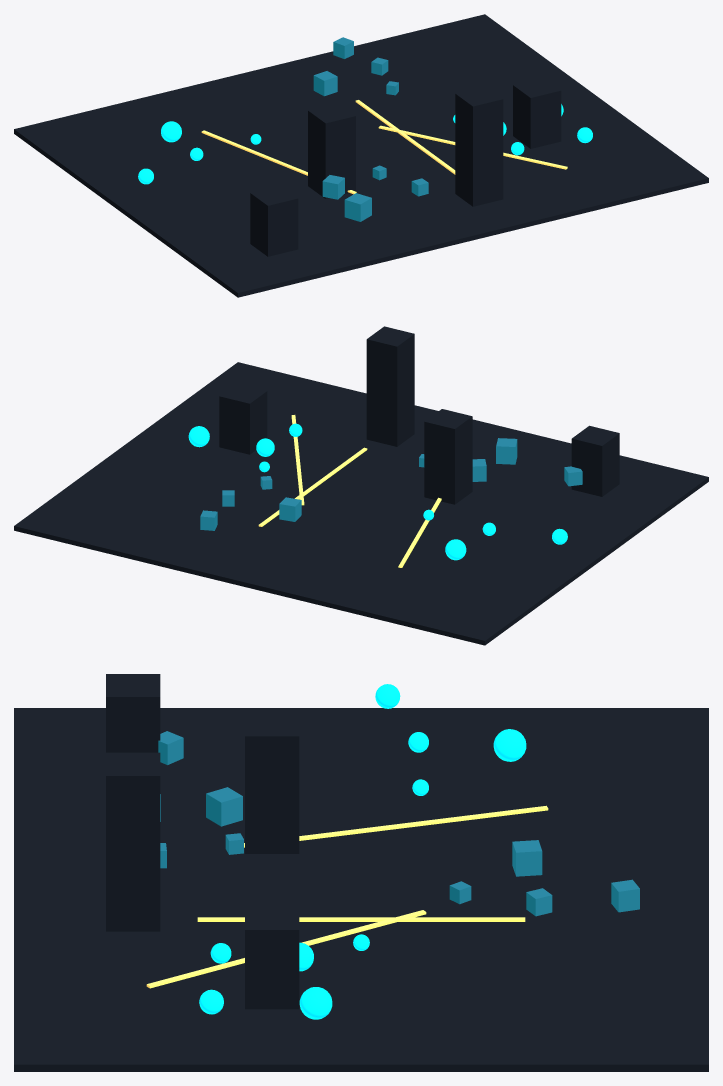
File: north-academy.glb
The picture shows the model from 3 angles, top to bottom: view 1: azimuth 30°, elevation 25°; view 2: azimuth 150°, elevation 25°; view 3: azimuth 270°, elevation 25°; orthographic projection. The views are drawn at different scales.
Parts seen in each view (by area): view 1: GD_north-academy_walkable_platform, GD_north-academy_distant_tower_2, GD_north-academy_distant_tower_1, GD_north-academy_distant_tower_0, GD_north-academy_distant_tower_3, GD_north-academy_cluster_9, GD_north-academy_pcg_route_12, GD_north-academy_pcg_route_0, GD_north-academy_cluster_3, GD_north-academy_pcg_route_6, GD_north-academy_cluster_13; view 2: GD_north-academy_walkable_platform, GD_north-academy_distant_tower_2, GD_north-academy_distant_tower_1, GD_north-academy_distant_tower_3, GD_north-academy_distant_tower_0, GD_north-academy_cluster_9; view 3: GD_north-academy_walkable_platform, GD_north-academy_distant_tower_2, GD_north-academy_distant_tower_1, GD_north-academy_distant_tower_3, GD_north-academy_distant_tower_0, GD_north-academy_pcg_route_6, GD_north-academy_pcg_route_0, GD_north-academy_pcg_route_12, GD_north-academy_cluster_13, GD_north-academy_cluster_3, GD_north-academy_cluster_4, GD_north-academy_cluster_14 (+3 smaller).
Part boxes in pixels (box(x1,y1,x2,y2)): GD_north-academy_walkable_platform: box(14, 14, 708, 297); GD_north-academy_distant_tower_2: box(455, 86, 503, 206); GD_north-academy_distant_tower_1: box(308, 103, 355, 198); GD_north-academy_distant_tower_0: box(250, 185, 298, 256); GD_north-academy_distant_tower_3: box(513, 78, 561, 148); GD_north-academy_cluster_9: box(344, 193, 371, 221); GD_north-academy_pcg_route_12: box(378, 125, 567, 169); GD_north-academy_pcg_route_0: box(355, 100, 455, 174); GD_north-academy_cluster_3: box(313, 71, 337, 96); GD_north-academy_pcg_route_6: box(201, 130, 356, 194); GD_north-academy_cluster_13: box(322, 175, 344, 199); GD_north-academy_walkable_platform: box(14, 362, 708, 645); GD_north-academy_distant_tower_2: box(366, 326, 414, 446); GD_north-academy_distant_tower_1: box(424, 409, 472, 504); GD_north-academy_distant_tower_3: box(219, 383, 267, 454); GD_north-academy_distant_tower_0: box(571, 425, 619, 496); GD_north-academy_cluster_9: box(496, 438, 517, 464); GD_north-academy_walkable_platform: box(14, 708, 708, 1071); GD_north-academy_distant_tower_2: box(106, 752, 160, 931); GD_north-academy_distant_tower_1: box(245, 713, 299, 853); GD_north-academy_distant_tower_3: box(245, 907, 299, 1009); GD_north-academy_distant_tower_0: box(106, 674, 160, 752); GD_north-academy_pcg_route_6: box(244, 805, 548, 847); GD_north-academy_pcg_route_0: box(197, 917, 525, 921); GD_north-academy_pcg_route_12: box(146, 910, 426, 988); GD_north-academy_cluster_13: box(206, 787, 242, 826); GD_north-academy_cluster_3: box(512, 840, 542, 876); GD_north-academy_cluster_4: box(299, 987, 332, 1019); GD_north-academy_cluster_14: box(493, 729, 526, 761).
Size of the model in its own units: 17 by 3.62 by 14.
